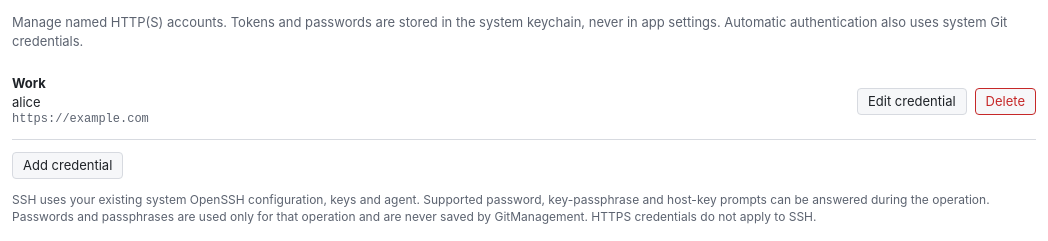
Scenario: deletes by id after confirmation
Step 1. Click the button with aria-label "Delete Work" → (1005, 101), box [975, 88, 1036, 115]
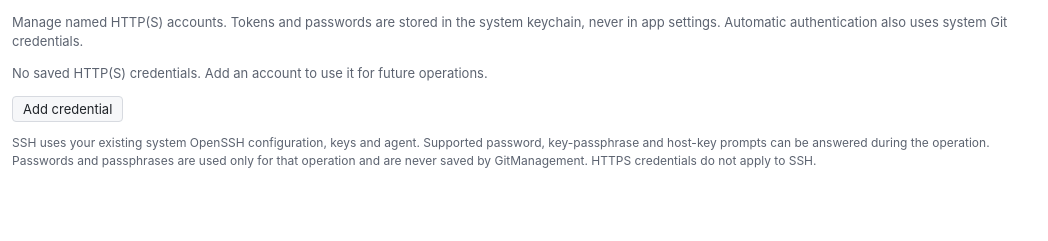
Check: the text "Work" is gone
